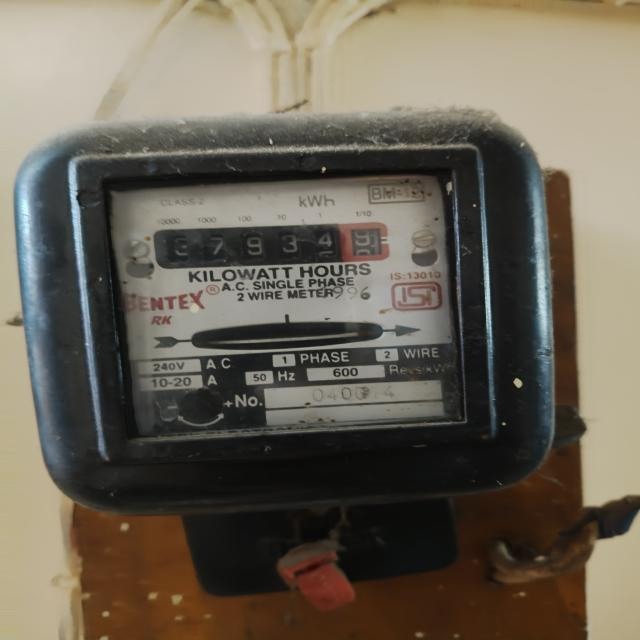display: (144, 218, 392, 266)
